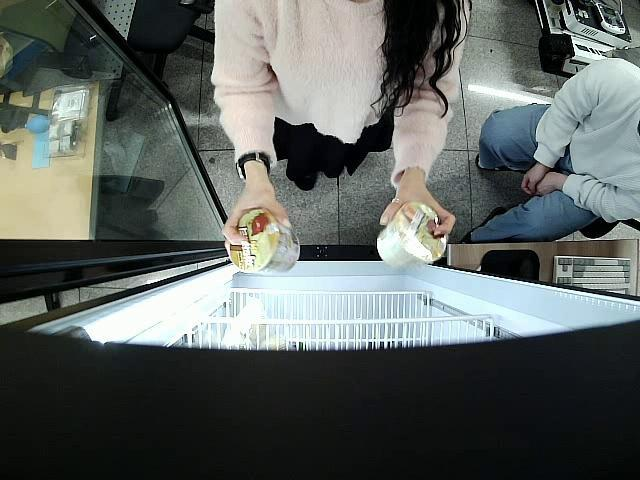04_chapagetti_S: (226, 210, 300, 277), (376, 204, 447, 272)
